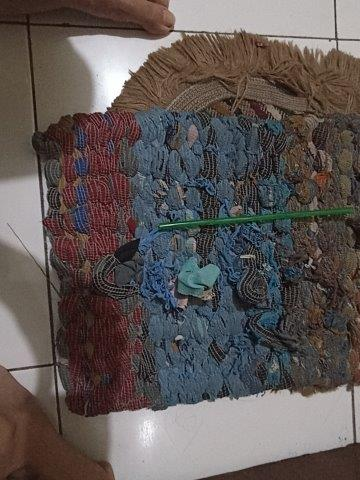sedotan: (160, 207, 352, 230)
